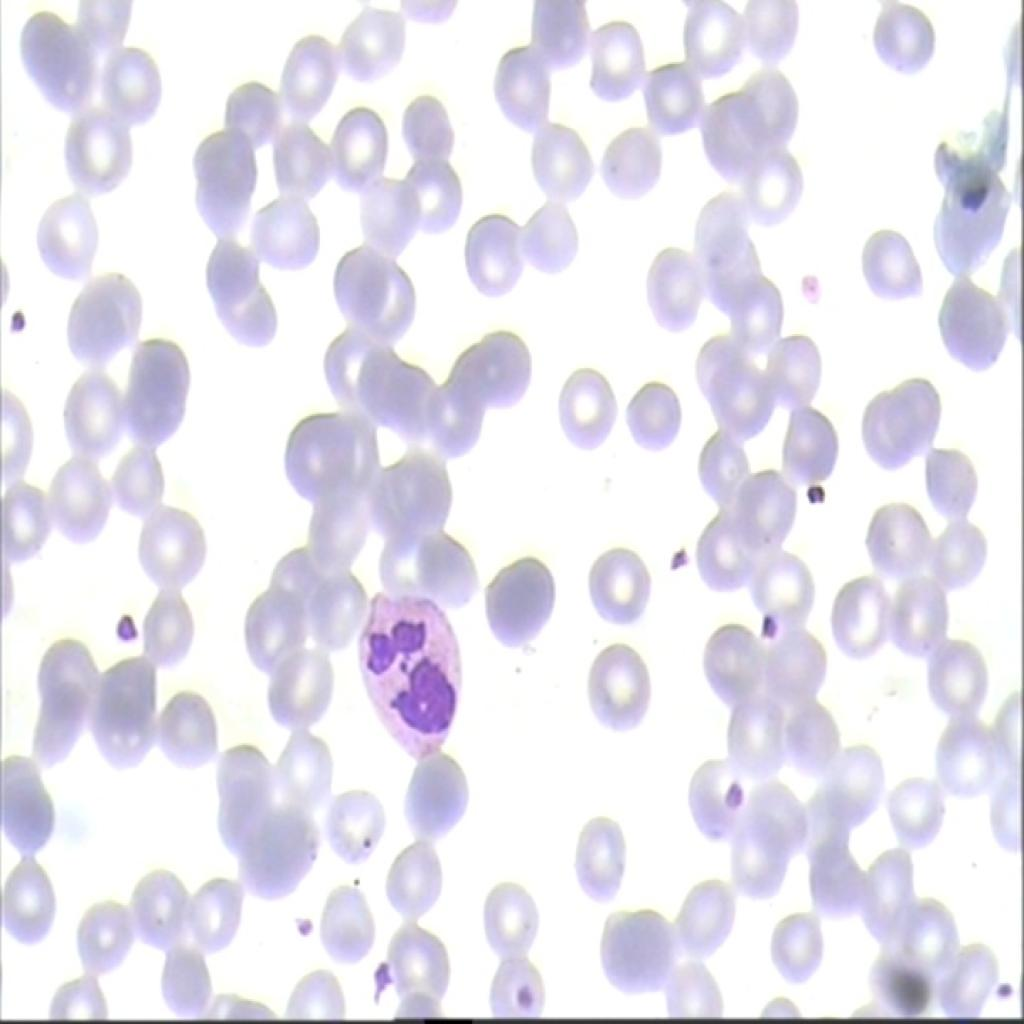Neutrofil: (353, 581, 469, 761)
Platelet: (101, 597, 148, 658), (748, 604, 791, 660), (0, 290, 43, 345), (503, 962, 542, 1018), (358, 958, 396, 1004), (795, 471, 836, 512), (284, 903, 316, 953), (987, 965, 1020, 1008), (716, 770, 742, 820), (795, 258, 825, 295), (670, 540, 692, 576)
